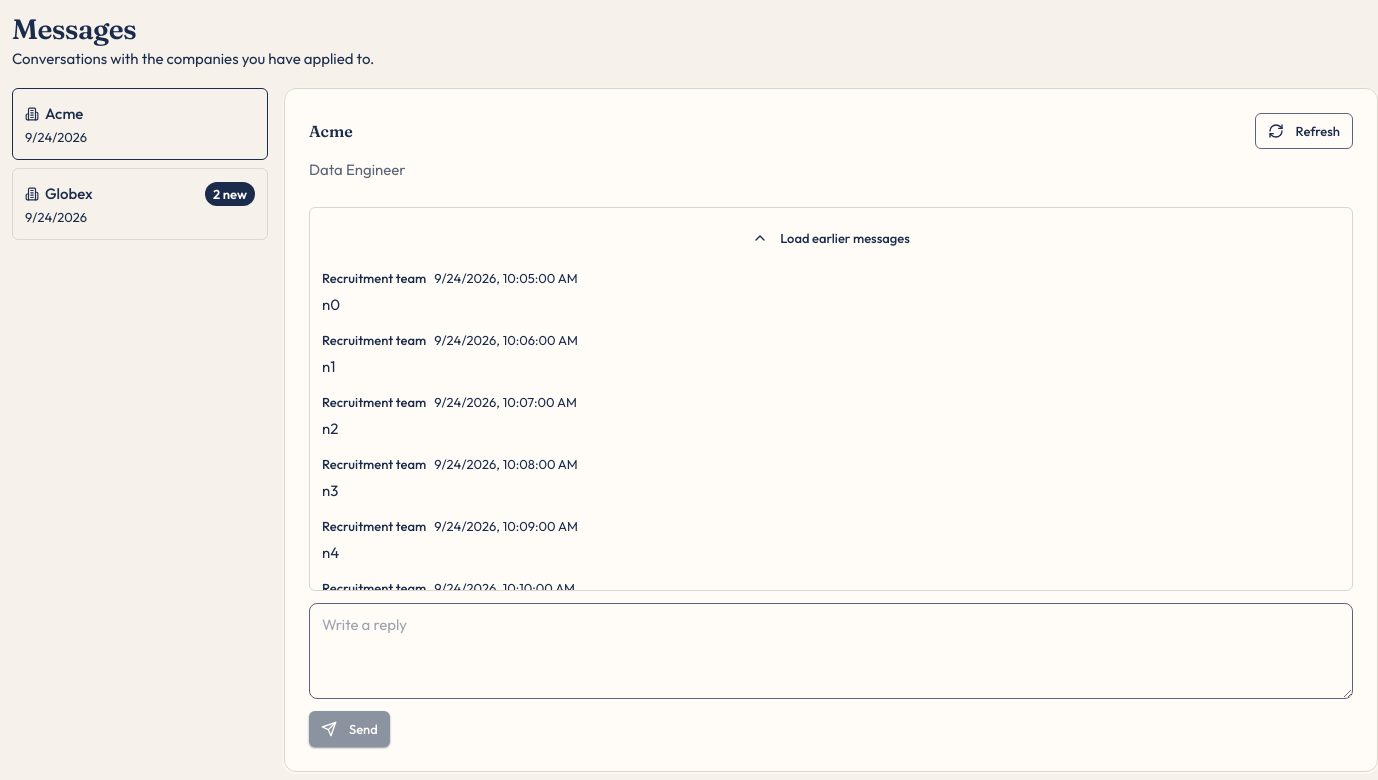
Test case: load earlier › pages on the oldest message's timestamp AND id, and prepends
Click the button "Load earlier messages" at (831, 238), box left=740, top=220, right=922, bottom=256
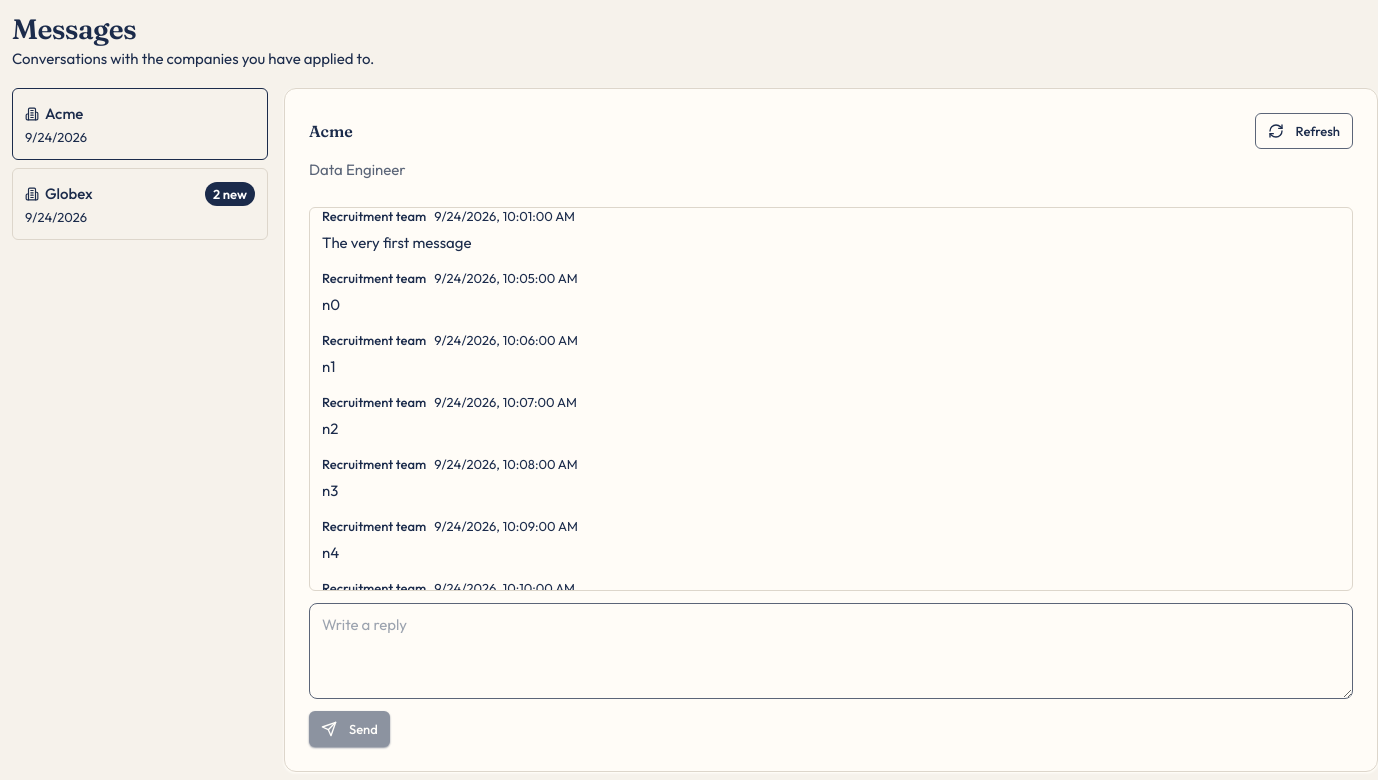
Result: the text "The very first message" is shown at left=322, top=233, right=472, bottom=252
Result: the button "Load earlier" is gone
